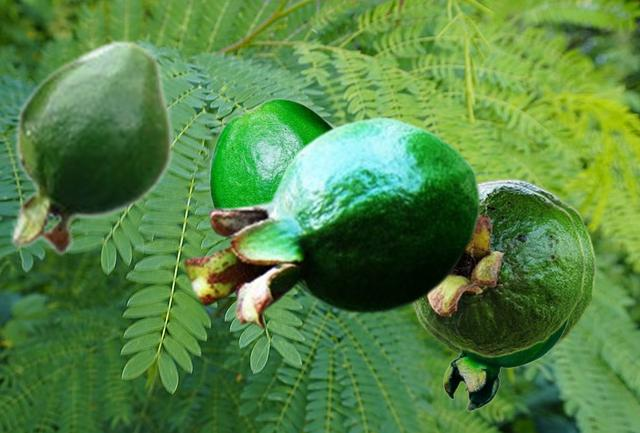guava: (183, 115, 480, 329), (10, 38, 172, 256), (410, 178, 596, 354), (415, 182, 585, 357), (208, 98, 333, 206), (442, 319, 569, 410)
